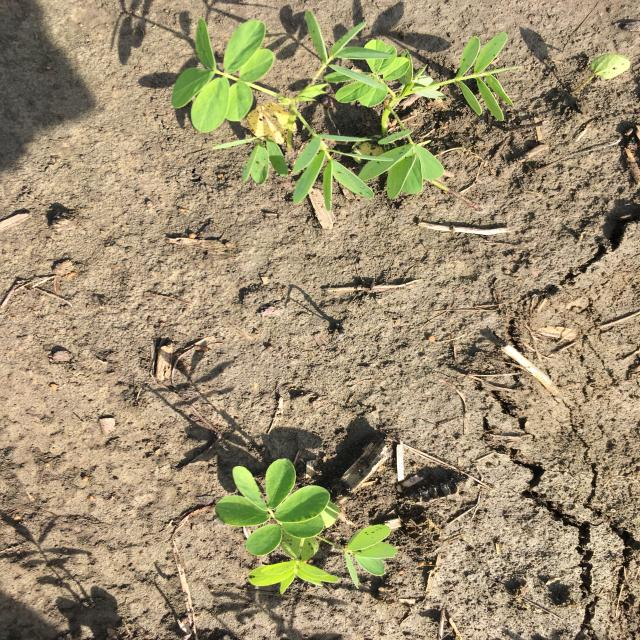Sicklepod: (170, 9, 530, 213), (212, 457, 402, 596)
